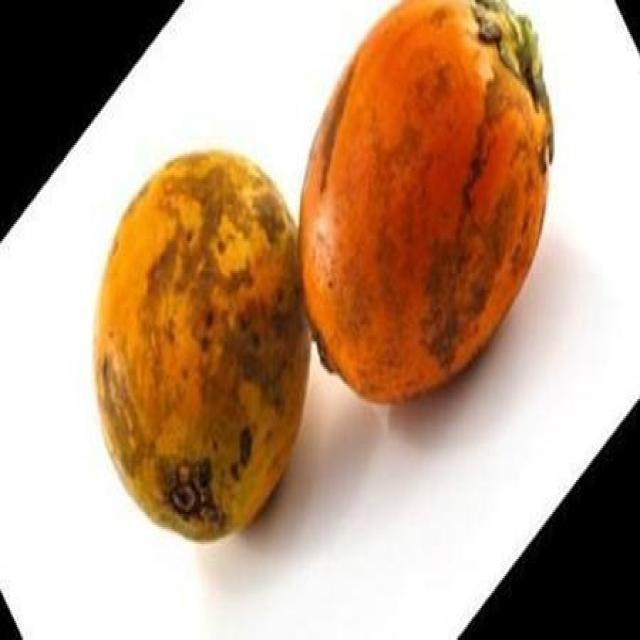good: (299, 0, 553, 407), (92, 149, 313, 546)
